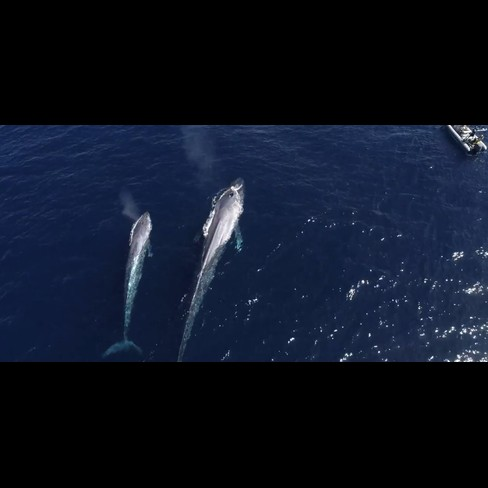bluewhale: (166, 174, 250, 362), (97, 206, 156, 363)
